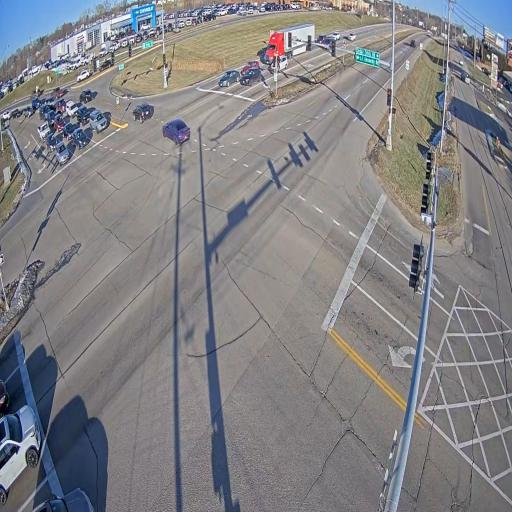pickup: (38, 121, 51, 141), (53, 87, 65, 99)
sedan: (162, 119, 190, 144), (218, 70, 240, 87), (62, 122, 76, 140), (45, 132, 57, 152), (11, 109, 22, 118)
suv: (89, 110, 107, 133), (70, 128, 89, 149), (133, 103, 152, 123), (55, 141, 70, 165), (240, 68, 261, 85), (76, 105, 90, 126), (53, 113, 65, 132), (66, 100, 78, 118), (79, 89, 93, 103), (39, 104, 51, 119), (276, 55, 287, 71), (55, 99, 67, 113), (77, 70, 90, 82), (45, 109, 55, 124), (23, 105, 34, 118), (100, 60, 111, 71), (31, 98, 41, 110), (332, 31, 340, 40), (348, 33, 355, 41), (270, 61, 275, 72), (410, 39, 415, 47)
truck: (264, 23, 314, 64)
